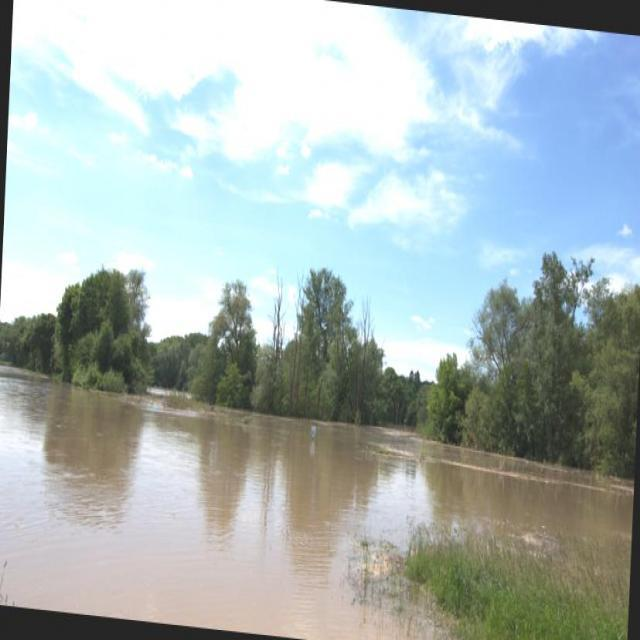flood: (0, 356, 637, 639)
